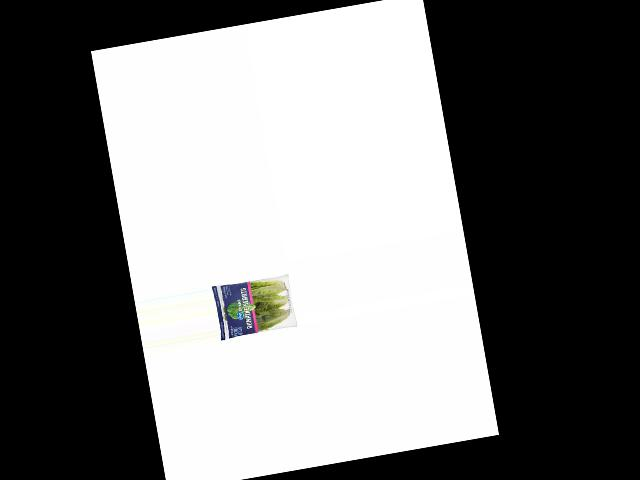lettuce: (212, 271, 295, 342)
